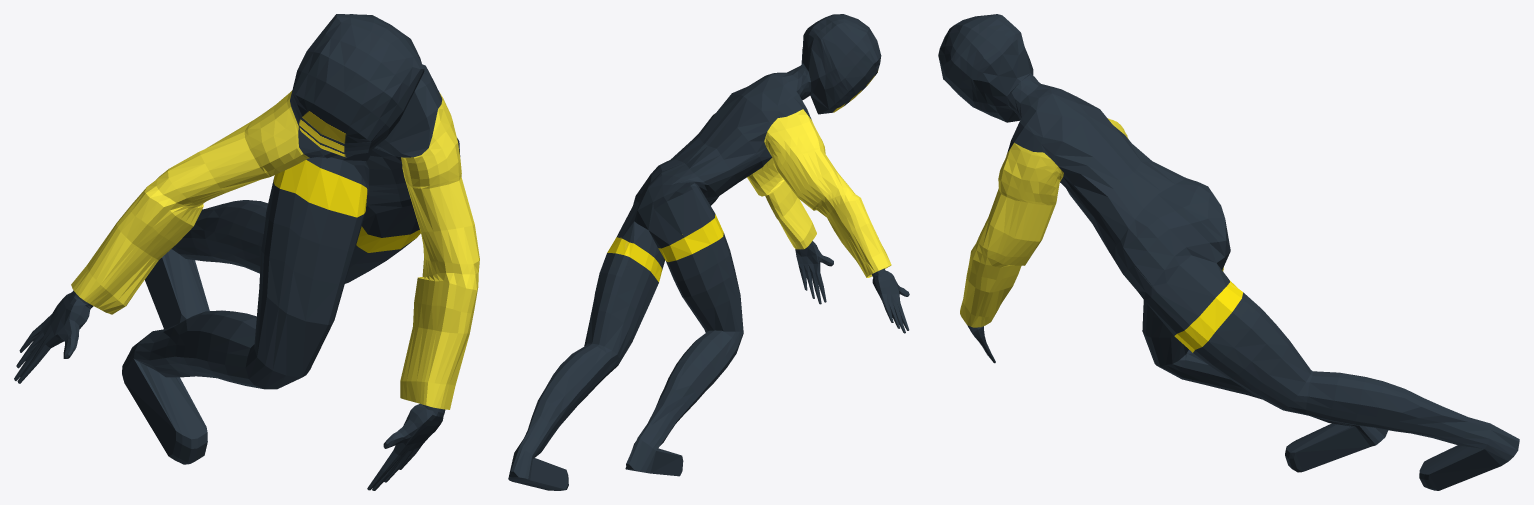
Rendered from Sentry_Die_000009.obj.
3 views of the same model, side by side, from view 1: azimuth 30°, elevation 25°; view 2: azimuth 150°, elevation 25°; view 3: azimuth 270°, elevation 25° (orthographic). The views are drawn at different scales.
Parts seen in each view (by area): view 1: Cube; view 2: Cube; view 3: Cube.
Part boxes in pixels (bbox=[...]): Cube: bbox=[14, 14, 479, 490]; Cube: bbox=[508, 14, 909, 490]; Cube: bbox=[938, 14, 1519, 490].
Bounding box in the file's own units: 1.94 × 2.5 × 3.04.
